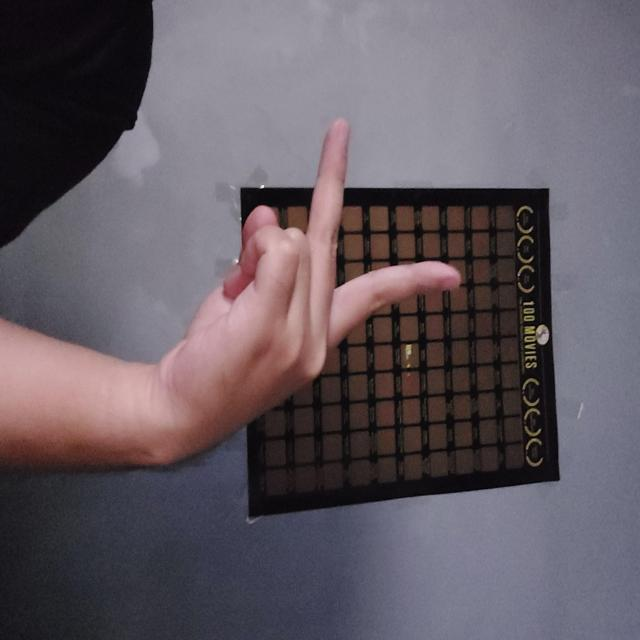K: (119, 178, 467, 468)
